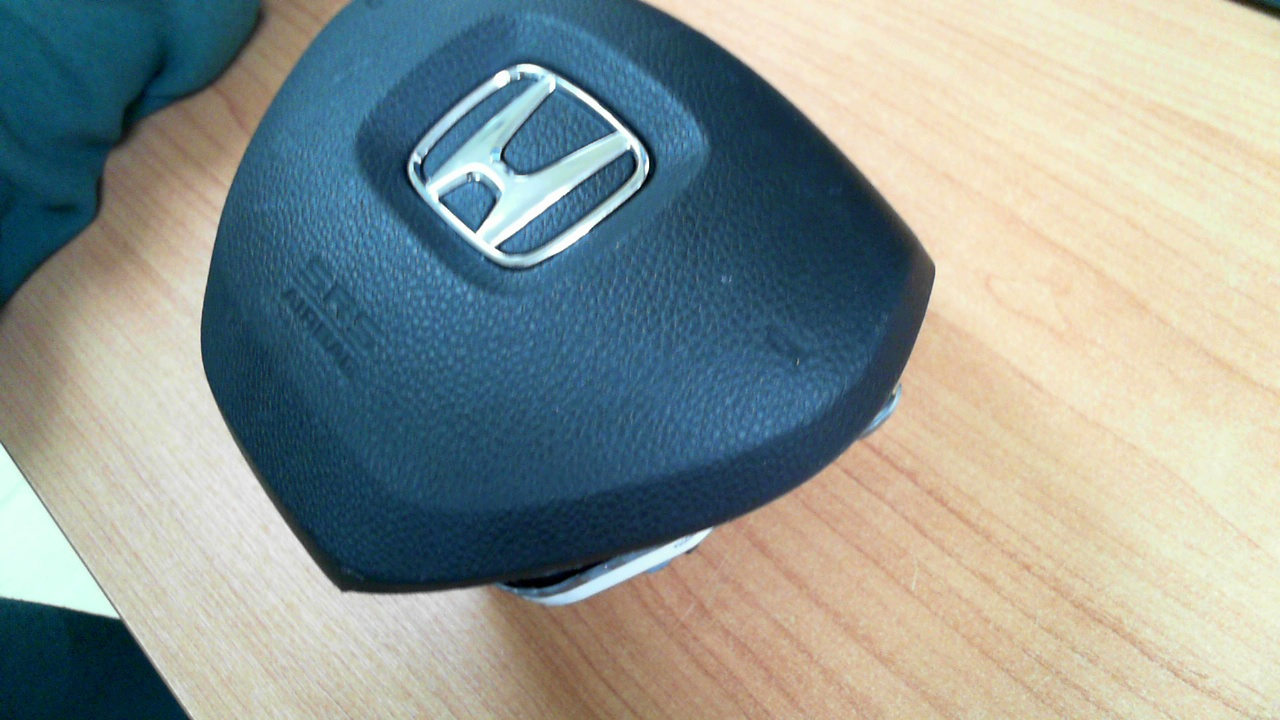Airbag: (198, 0, 938, 607)
Honda: (389, 57, 664, 271)
